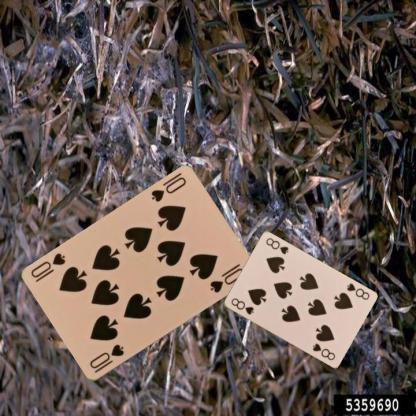10s: (87, 341, 126, 375), (148, 174, 187, 204)
8s: (228, 295, 255, 316), (343, 280, 370, 301)
